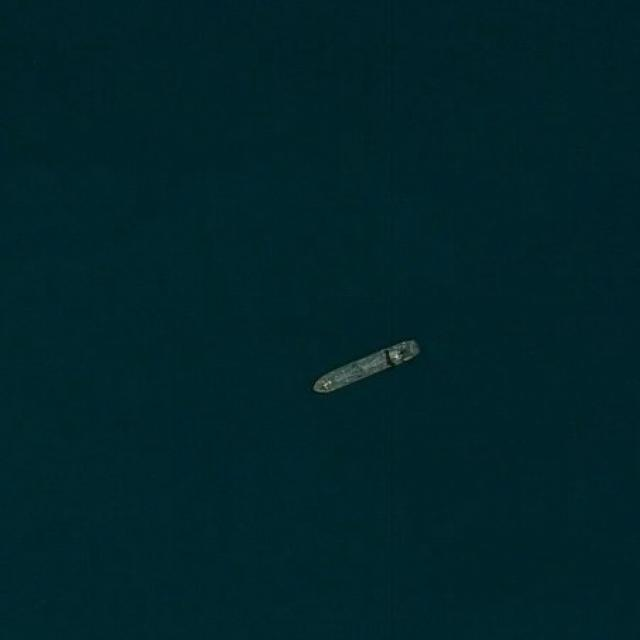Oil Tanker: (305, 335, 424, 401)
